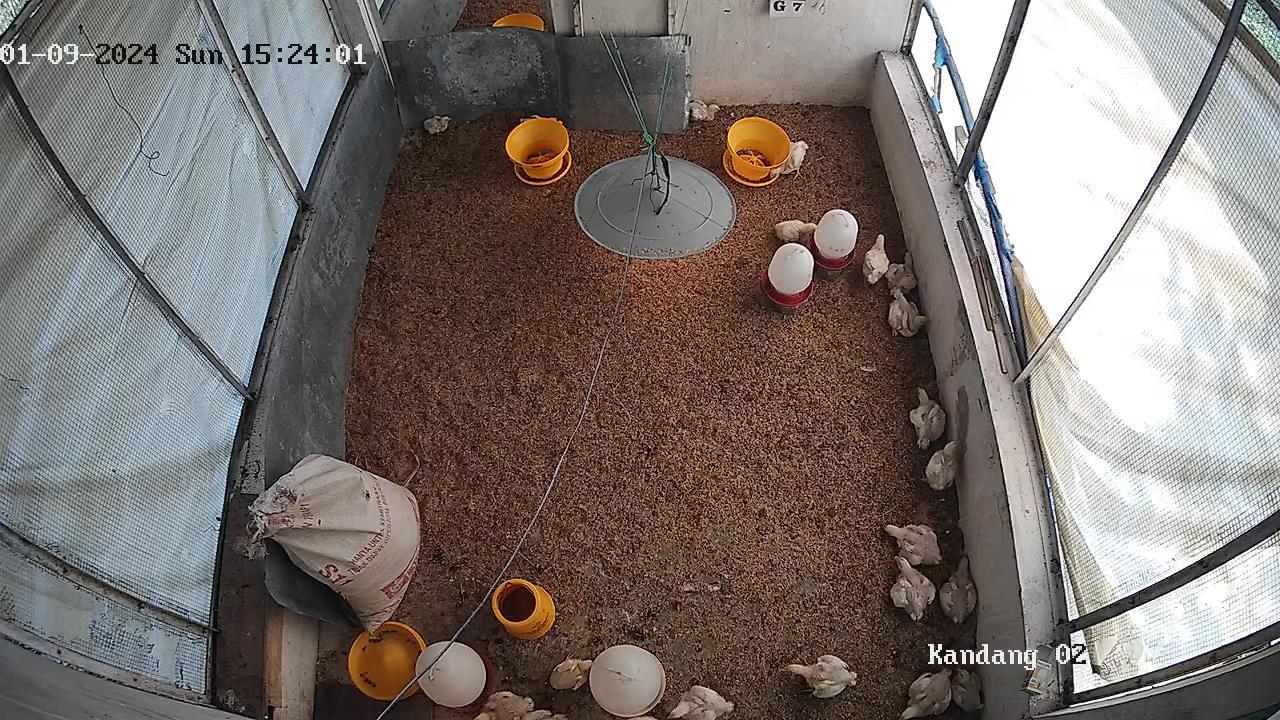chicken: (782, 653, 858, 700), (888, 554, 936, 621), (899, 668, 954, 720), (940, 553, 978, 624), (665, 683, 737, 720), (884, 522, 942, 567), (908, 387, 947, 451), (888, 291, 931, 340), (926, 435, 961, 493), (473, 690, 535, 720), (767, 139, 809, 179), (861, 232, 890, 286), (548, 657, 594, 691), (951, 668, 984, 711), (885, 251, 917, 295), (774, 218, 816, 243), (687, 98, 722, 123), (423, 115, 453, 137), (521, 710, 569, 720)
